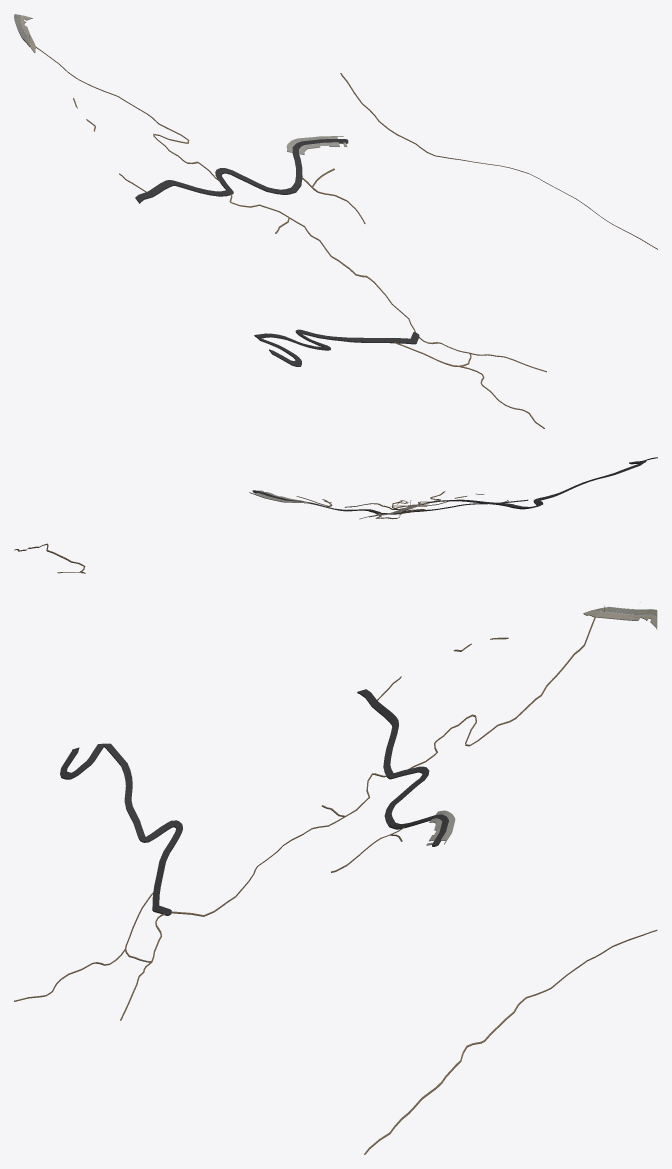
3 renders of one model, top to bottom at view 1: azimuth 30°, elevation 25°; view 2: azimuth 150°, elevation 25°; view 3: azimuth 270°, elevation 25°, orthographic. The views are drawn at different scales.
Size of the model in its own units: 587 by 284 by 584.
